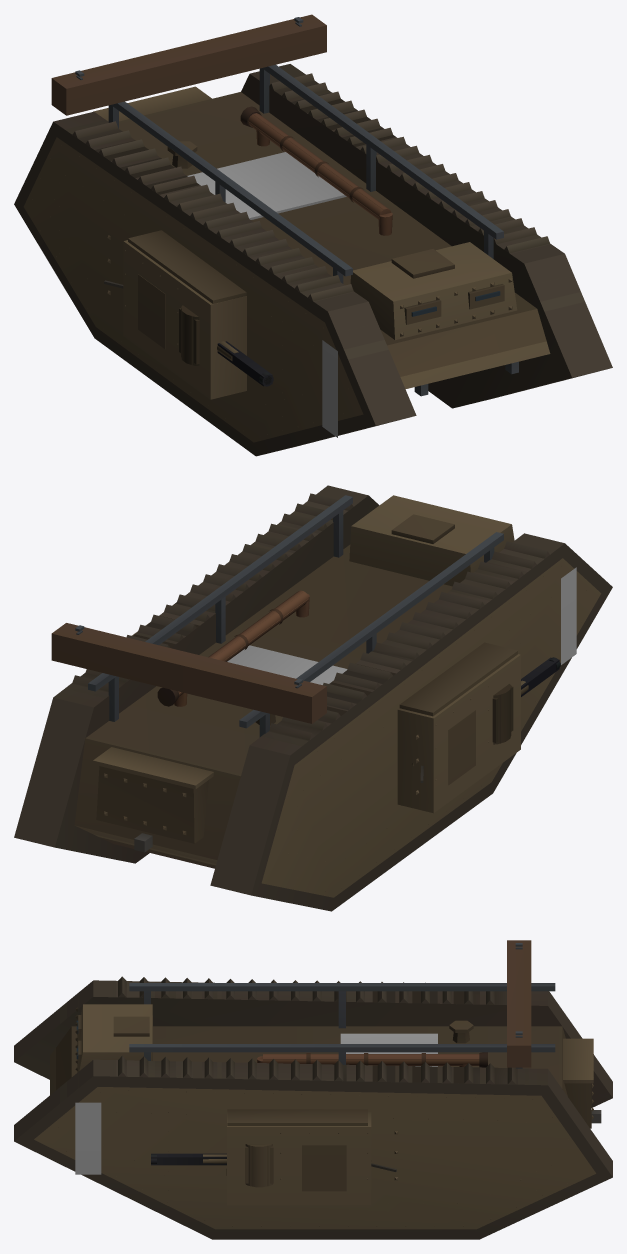
File: tank_ww1_rhomboid.glb
3 views of the same model, one above another, from view 1: azimuth 30°, elevation 25°; view 2: azimuth 150°, elevation 25°; view 3: azimuth 270°, elevation 25° (orthographic). The views are drawn at different scales.
Visible parts, largest first — view 1: tank_ww1_rhomboid_LOD2_mesh, tank_ww1_rhomboid_LOD0_mesh, tank_ww1_rhomboid_LOD1_mesh, tank_ww1_rhomboid_LOD0_gun_r_mesh, tank_ww1_rhomboid_LOD2_gun_r_mesh; view 2: tank_ww1_rhomboid_LOD2_mesh, tank_ww1_rhomboid_LOD0_mesh, tank_ww1_rhomboid_LOD1_mesh, tank_ww1_rhomboid_LOD2_gun_r_mesh, tank_ww1_rhomboid_LOD0_gun_r_mesh; view 3: tank_ww1_rhomboid_LOD2_mesh, tank_ww1_rhomboid_LOD0_mesh, tank_ww1_rhomboid_LOD1_mesh, tank_ww1_rhomboid_LOD0_gun_l_mesh, tank_ww1_rhomboid_LOD2_gun_l_mesh.
Boxes of the visible parts, box(x1,y1,x2,y2) form: tank_ww1_rhomboid_LOD2_mesh: box(14, 64, 612, 456); tank_ww1_rhomboid_LOD0_mesh: box(32, 14, 584, 448); tank_ww1_rhomboid_LOD1_mesh: box(65, 66, 550, 450); tank_ww1_rhomboid_LOD0_gun_r_mesh: box(181, 305, 273, 386); tank_ww1_rhomboid_LOD2_gun_r_mesh: box(179, 308, 272, 386); tank_ww1_rhomboid_LOD2_mesh: box(14, 485, 612, 911); tank_ww1_rhomboid_LOD0_mesh: box(52, 493, 586, 891); tank_ww1_rhomboid_LOD1_mesh: box(65, 497, 550, 746); tank_ww1_rhomboid_LOD2_gun_r_mesh: box(492, 657, 559, 742); tank_ww1_rhomboid_LOD0_gun_r_mesh: box(493, 657, 560, 744); tank_ww1_rhomboid_LOD2_mesh: box(14, 980, 612, 1239); tank_ww1_rhomboid_LOD0_mesh: box(56, 940, 601, 1226); tank_ww1_rhomboid_LOD1_mesh: box(116, 981, 555, 1175); tank_ww1_rhomboid_LOD0_gun_l_mesh: box(151, 1144, 272, 1187); tank_ww1_rhomboid_LOD2_gun_l_mesh: box(151, 1146, 273, 1183).
Bounding box in the file's own units: 4.29 × 3.12 × 8.3.
